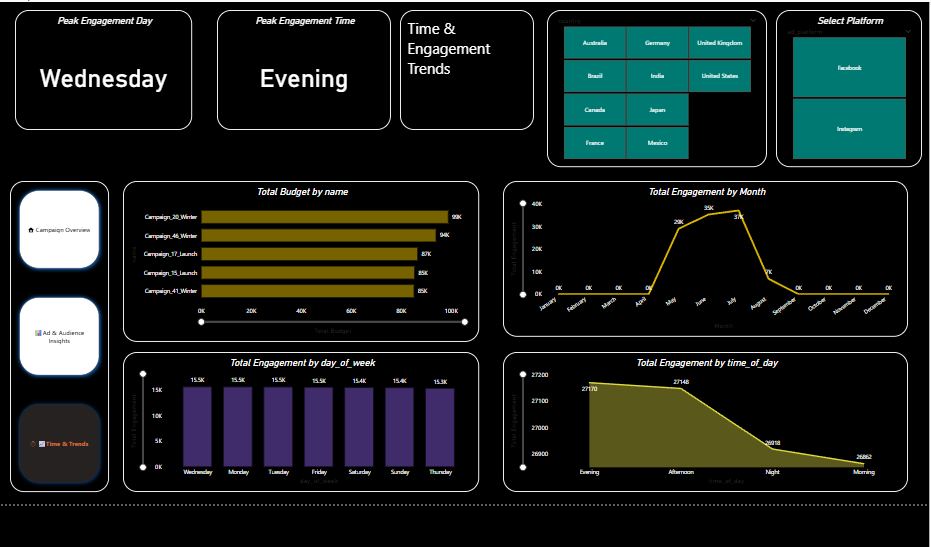

The dashboard page shown, as its layout file describes it:
{"tool":"powerbi","page":{"name":"⏱ 📈Time & Trends","canvas":[2000,1080],"ordinal":2},"visuals":[{"type":"card","title":"Peak Engagement Day","fields":{"Values":["Meaasure Table.Peak Engagement Day"]},"box":[34.4,17.2,380.6,258.1],"z":0},{"type":"card","title":"Peak Engagement Time","fields":{"Values":["Meaasure Table.Peak Engagement Time"]},"box":[468.8,17.2,374.2,258.1],"z":1000},{"type":"lineChart","fields":{"Category":["social_media_ad adevents.date.Variation.Date Hierarchy.Year","social_media_ad adevents.date.Variation.Date Hierarchy.Month","social_media_ad adevents.date.Variation.Date Hierarchy.Day"],"Y":["Meaasure Table.Total Engagement"]},"box":[1083.9,384.9,871,335.5],"z":2000},{"type":"clusteredColumnChart","fields":{"Category":["social_media_ad adevents.day_of_week"],"Y":["Meaasure Table.Total Engagement"]},"box":[266.7,752.7,765.6,301.1],"z":3000},{"type":"areaChart","fields":{"Category":["social_media_ad adevents.time_of_day"],"Y":["Meaasure Table.Total Engagement"]},"box":[1083.9,752.7,871,301.1],"z":4000},{"type":"clusteredBarChart","fields":{"Category":["social_media_ad campaigns.name"],"Y":["Meaasure Table.Total Budget"]},"box":[273.1,384.9,765.6,346.2],"z":5000},{"type":"pageNavigator","box":[23.7,333.3,212.9,720.4],"z":6000},{"type":"slicer","title":"Select Platform","fields":{"Values":["social_media_ad ads.ad_platform"]},"box":[1671,17.2,314,337.6],"z":7000},{"type":"slicer","fields":{"Values":["social_media_ad users.country"]},"box":[1178.5,17.2,473.1,337.6],"z":8000},{"type":"textbox","box":[862.4,17.2,288.2,258.1],"z":9000}]}

Visuals, with their boxes on the page's 2000x1080 design canvas (x1, y1, x2, y2). These are canvas units, not pixel positions in the 931x547 screenshot, which may show the page scaled, cropped or inside an application window:
"Peak Engagement Day" card: locate(34, 17, 415, 275)
"Peak Engagement Time" card: locate(469, 17, 843, 275)
lineChart - social_media_ad adevents.date.Variation.Date Hierarchy.Year x social_media_ad adevents.date.Variation.Date Hierarchy.Month: locate(1084, 385, 1955, 720)
clusteredColumnChart - social_media_ad adevents.day_of_week x Meaasure Table.Total Engagement: locate(267, 753, 1032, 1054)
areaChart - social_media_ad adevents.time_of_day x Meaasure Table.Total Engagement: locate(1084, 753, 1955, 1054)
clusteredBarChart - social_media_ad campaigns.name x Meaasure Table.Total Budget: locate(273, 385, 1039, 731)
pageNavigator: locate(24, 333, 237, 1054)
"Select Platform" slicer: locate(1671, 17, 1985, 355)
slicer - social_media_ad users.country: locate(1178, 17, 1652, 355)
textbox: locate(862, 17, 1151, 275)
